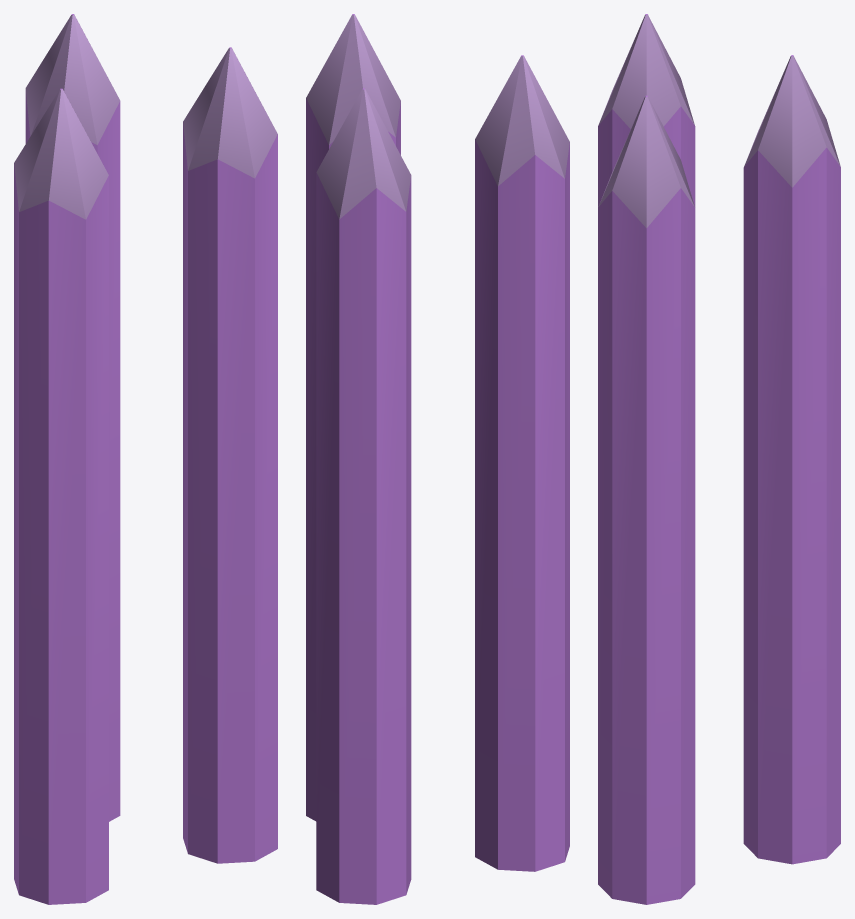
The model's file is stake_3x_2.fbx.
3 renders of one model, left to right at view 1: azimuth 30°, elevation 25°; view 2: azimuth 150°, elevation 25°; view 3: azimuth 270°, elevation 25°, orthographic.
Visible parts, largest first — view 1: polySurface1; view 2: polySurface1; view 3: polySurface1.
Part boxes in pixels (bbox=[...]): polySurface1: bbox=[14, 14, 277, 904]; polySurface1: bbox=[306, 14, 569, 904]; polySurface1: bbox=[598, 14, 840, 904].
Bounding box in the file's own units: 5.98 × 17.9 × 5.
